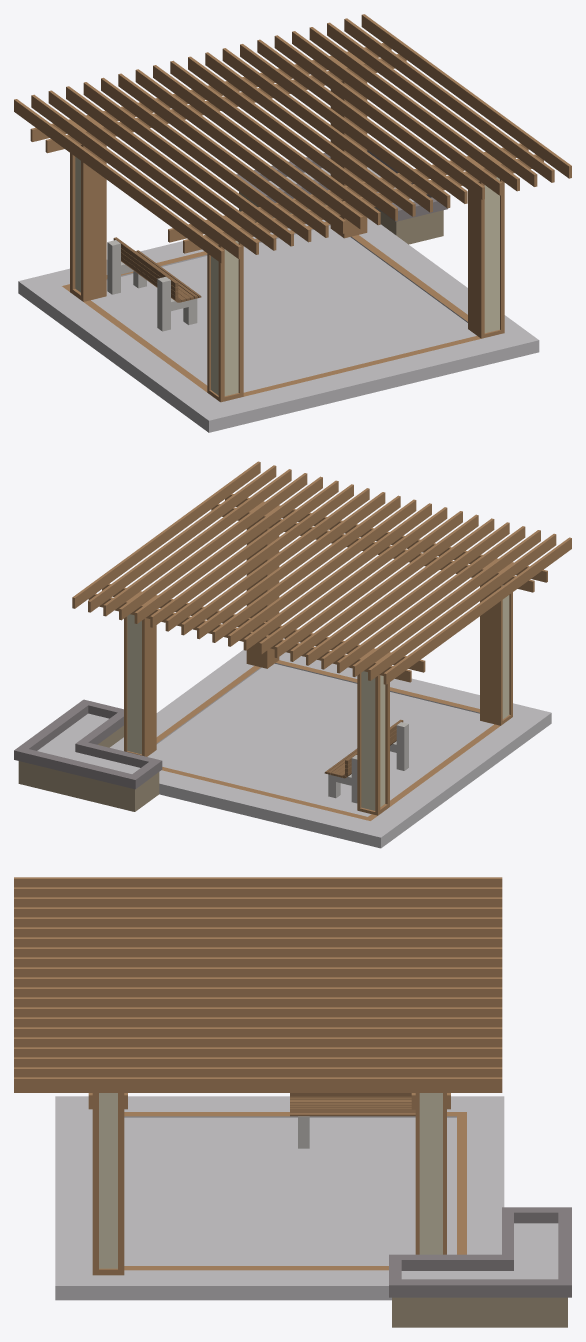
File: wood.glb
3 views of the same model, one above another, from view 1: azimuth 30°, elevation 25°; view 2: azimuth 150°, elevation 25°; view 3: azimuth 270°, elevation 25° (orthographic). The views are drawn at different scales.
Parts seen in each view (by area): view 1: imagetostl_mesh314, imagetostl_mesh304, imagetostl_mesh303, imagetostl_mesh309, imagetostl_mesh455, imagetostl_mesh23, imagetostl_mesh135, imagetostl_mesh31, imagetostl_mesh63, imagetostl_mesh127, imagetostl_mesh15, imagetostl_mesh87 (+55 smaller); view 2: imagetostl_mesh314, imagetostl_mesh304, imagetostl_mesh303, imagetostl_mesh341, imagetostl_mesh333, imagetostl_mesh373, imagetostl_mesh320, imagetostl_mesh95, imagetostl_mesh135, imagetostl_mesh15, imagetostl_mesh47, imagetostl_mesh151 (+60 smaller); view 3: imagetostl_mesh314, imagetostl_mesh304, imagetostl_mesh168, imagetostl_mesh303, imagetostl_mesh321, imagetostl_mesh308, imagetostl_mesh0, imagetostl_mesh8, imagetostl_mesh16, imagetostl_mesh24, imagetostl_mesh32, imagetostl_mesh40 (+47 smaller).
Part boxes in pixels (x1,y1,x2,y2): imagetostl_mesh314: (91,226,476,392); imagetostl_mesh304: (30,219,527,415); imagetostl_mesh303: (18,218,538,420); imagetostl_mesh309: (209,340,539,432); imagetostl_mesh455: (83,140,106,301); imagetostl_mesh23: (48,91,256,254); imagetostl_mesh135: (274,36,482,199); imagetostl_mesh31: (66,87,273,250); imagetostl_mesh63: (118,74,325,237); imagetostl_mesh127: (257,40,464,203); imagetostl_mesh15: (31,95,238,258); imagetostl_mesh87: (170,61,377,224); imagetostl_mesh314: (147,663,493,816); imagetostl_mesh304: (116,652,540,833); imagetostl_mesh303: (110,650,551,837); imagetostl_mesh341: (18,761,134,811); imagetostl_mesh333: (159,783,380,848); imagetostl_mesh373: (480,581,500,725); imagetostl_mesh320: (14,699,161,779); imagetostl_mesh95: (230,500,416,646); imagetostl_mesh135: (152,481,338,627); imagetostl_mesh15: (370,534,556,680); imagetostl_mesh47: (308,519,494,665); imagetostl_mesh151: (121,474,307,619); imagetostl_mesh314: (124,1117,456,1265); imagetostl_mesh304: (65,1100,494,1281); imagetostl_mesh168: (14,1079,502,1092); imagetostl_mesh303: (55,1096,504,1285); imagetostl_mesh321: (392,1297,567,1327); imagetostl_mesh308: (55,1286,391,1300); imagetostl_mesh0: (14,879,502,887); imagetostl_mesh8: (14,889,502,897); imagetostl_mesh16: (14,899,502,907); imagetostl_mesh24: (14,909,502,917); imagetostl_mesh32: (14,919,502,927); imagetostl_mesh40: (14,929,502,937).
Bounding box in the file's own units: 266 × 127 × 279.
